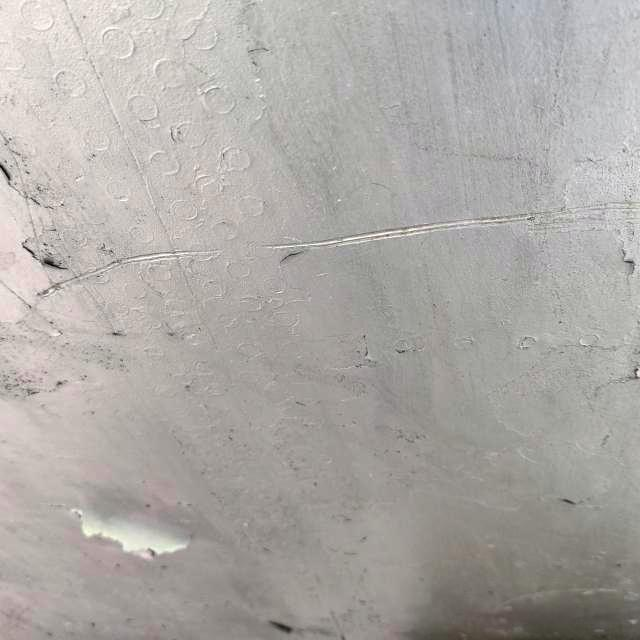paint-off: (45, 475, 204, 579)
scratch: (250, 161, 640, 274), (28, 226, 230, 312)
